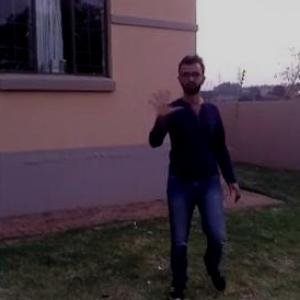follow_hand: (143, 83, 182, 118)
